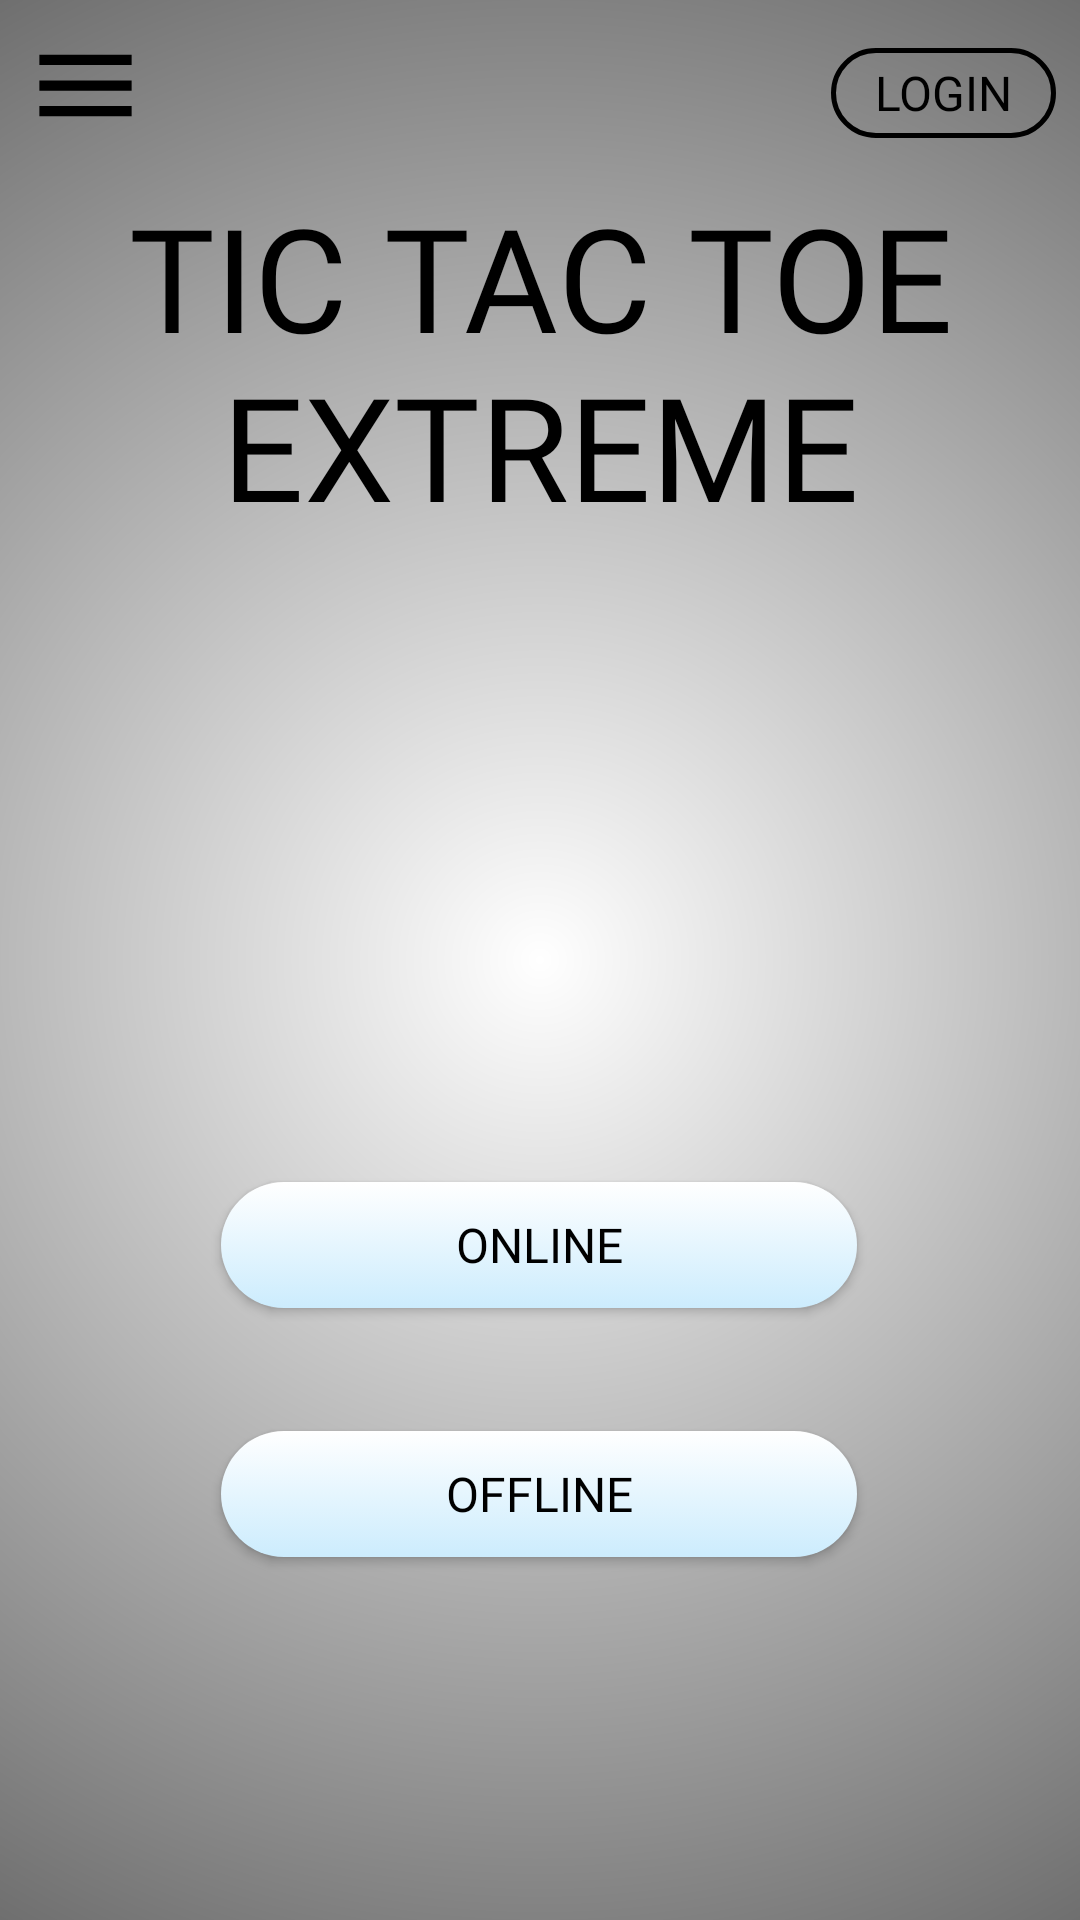

Icon click points for this 1080w x 1920h phone screenshot, format [x,y]:
menu: [85,85]
